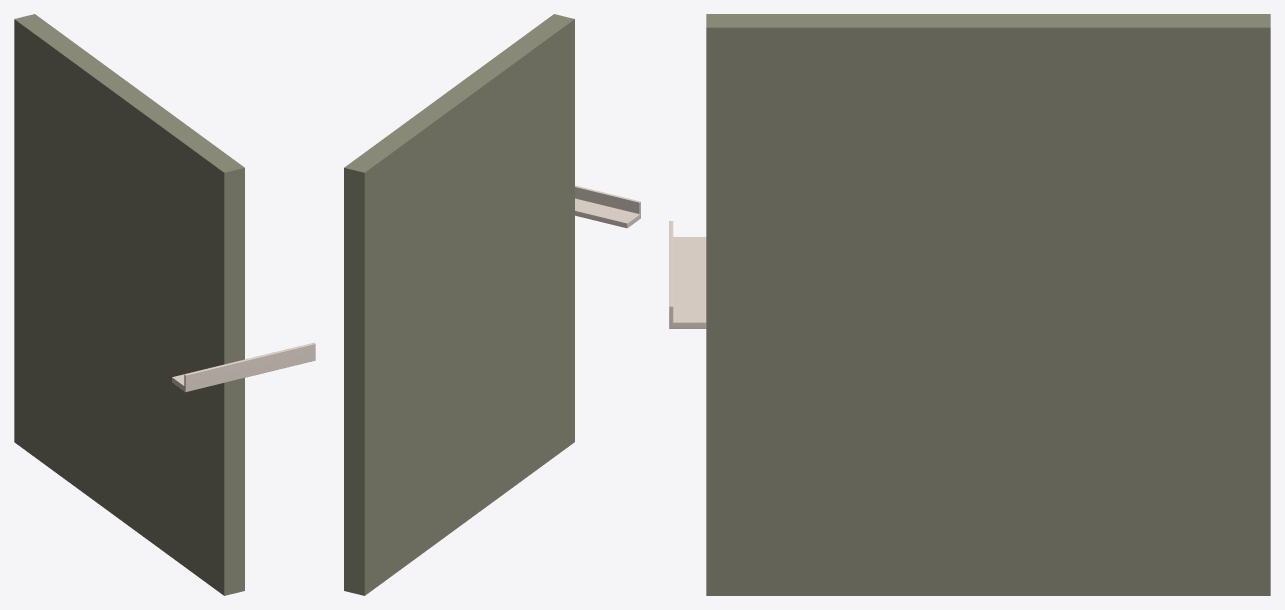
File: Cabinet_ec85310b.obj
3 renders of one model, left to right at view 1: azimuth 30°, elevation 25°; view 2: azimuth 150°, elevation 25°; view 3: azimuth 270°, elevation 25°, orthographic. The views are drawn at different scales.
Parts seen in each view (by area): view 1: FP418:Door1_4e347bd2, handle_3_178mm_01_be972c43; view 2: FP418:Door1_4e347bd2, handle_3_178mm_01_be972c43; view 3: FP418:Door1_4e347bd2, handle_3_178mm_01_be972c43.
Part boxes in pixels (x1=…): FP418:Door1_4e347bd2: x1=14, y1=14, x2=244, y2=595; handle_3_178mm_01_be972c43: x1=172, y1=342, x2=315, y2=392; FP418:Door1_4e347bd2: x1=344, y1=14, x2=574, y2=595; handle_3_178mm_01_be972c43: x1=575, y1=185, x2=640, y2=228; FP418:Door1_4e347bd2: x1=706, y1=14, x2=1270, y2=595; handle_3_178mm_01_be972c43: x1=669, y1=221, x2=706, y2=328.
Size of the model in its own units: 0.178 by 0.5523 by 0.5296.
